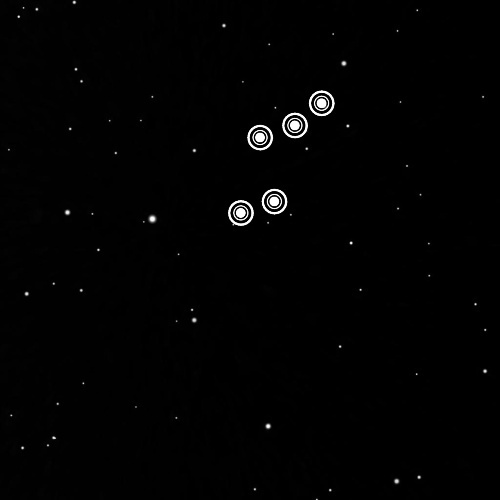lyra: (218, 76, 340, 240)
